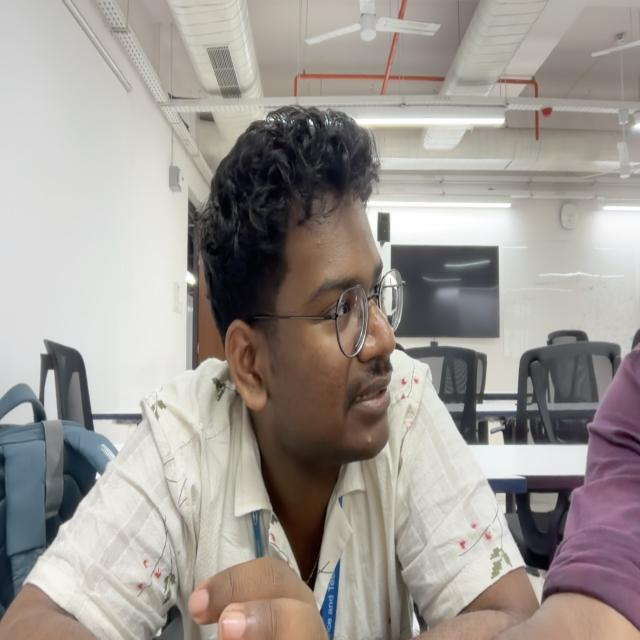sai: (197, 106, 404, 463)
